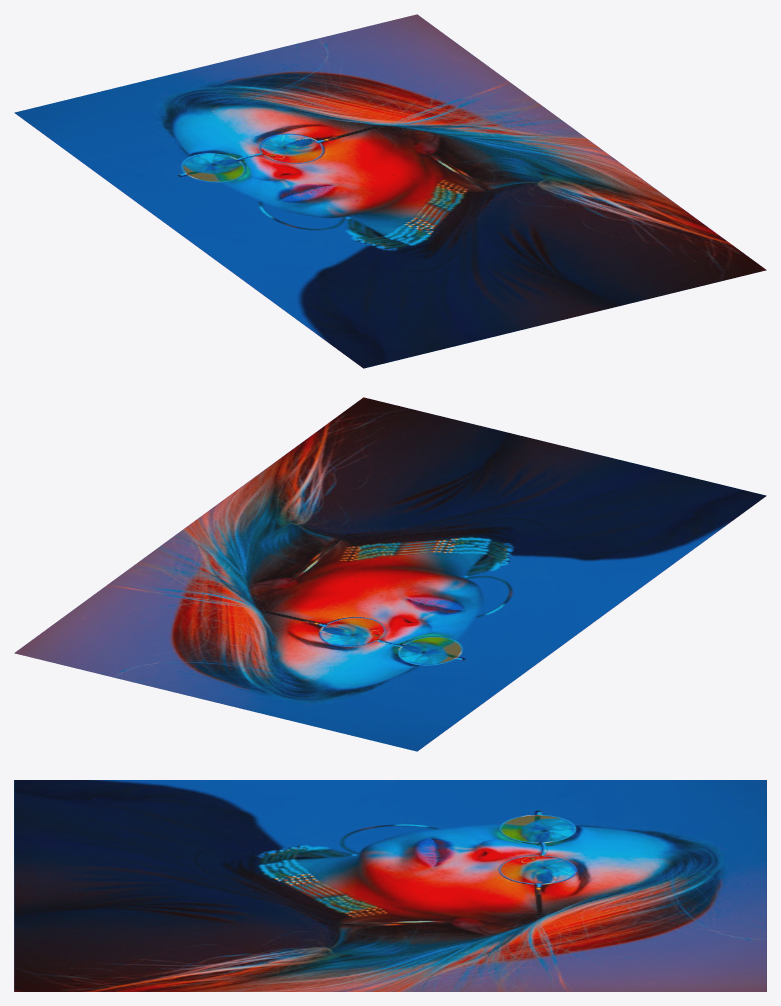
The model's file is ffeel.fbx.
The picture shows the model from 3 angles, top to bottom: view 1: azimuth 30°, elevation 25°; view 2: azimuth 150°, elevation 25°; view 3: azimuth 270°, elevation 25°; orthographic projection. The views are drawn at different scales.
Visible parts, largest first — view 1: 2w; view 2: 2w; view 3: 2w.
Part boxes in pixels (box(x1,y1,x2,y2)): 2w: box(14, 14, 766, 368); 2w: box(14, 397, 766, 751); 2w: box(14, 780, 766, 991).
Bounding box in the file's own units: 134 × 1.42e-14 × 202.
1 material, 1 textured.
